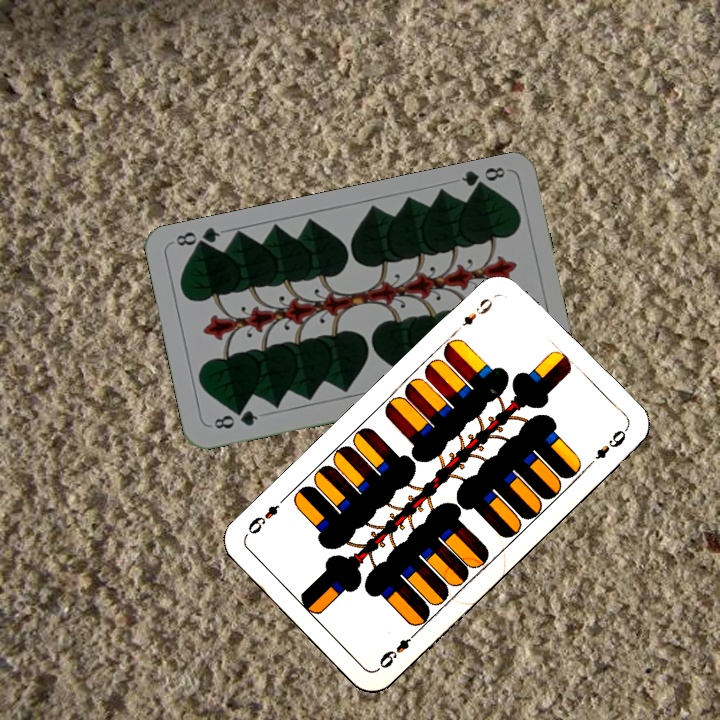E9: (373, 627, 420, 673), (450, 294, 496, 335)
G8: (457, 162, 508, 195), (210, 405, 261, 432)
